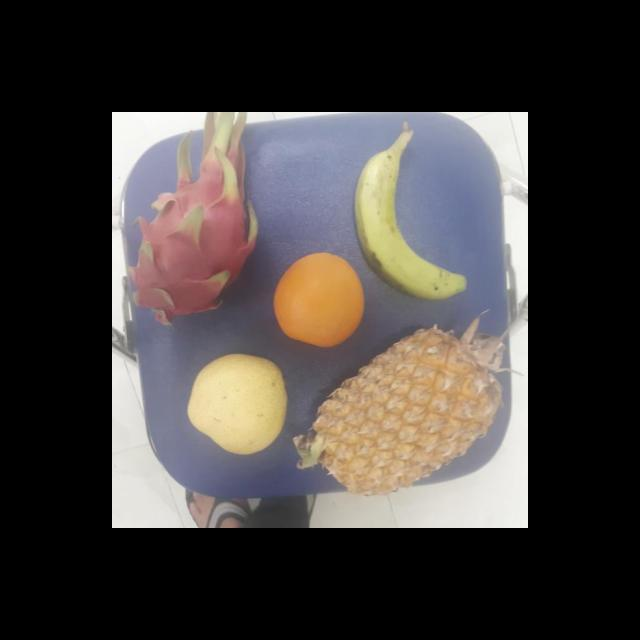banana: (356, 136, 454, 296)
orange: (272, 252, 366, 346)
pear: (186, 350, 292, 456)
pineapple: (311, 330, 508, 491)
pitaya: (124, 128, 261, 324)
